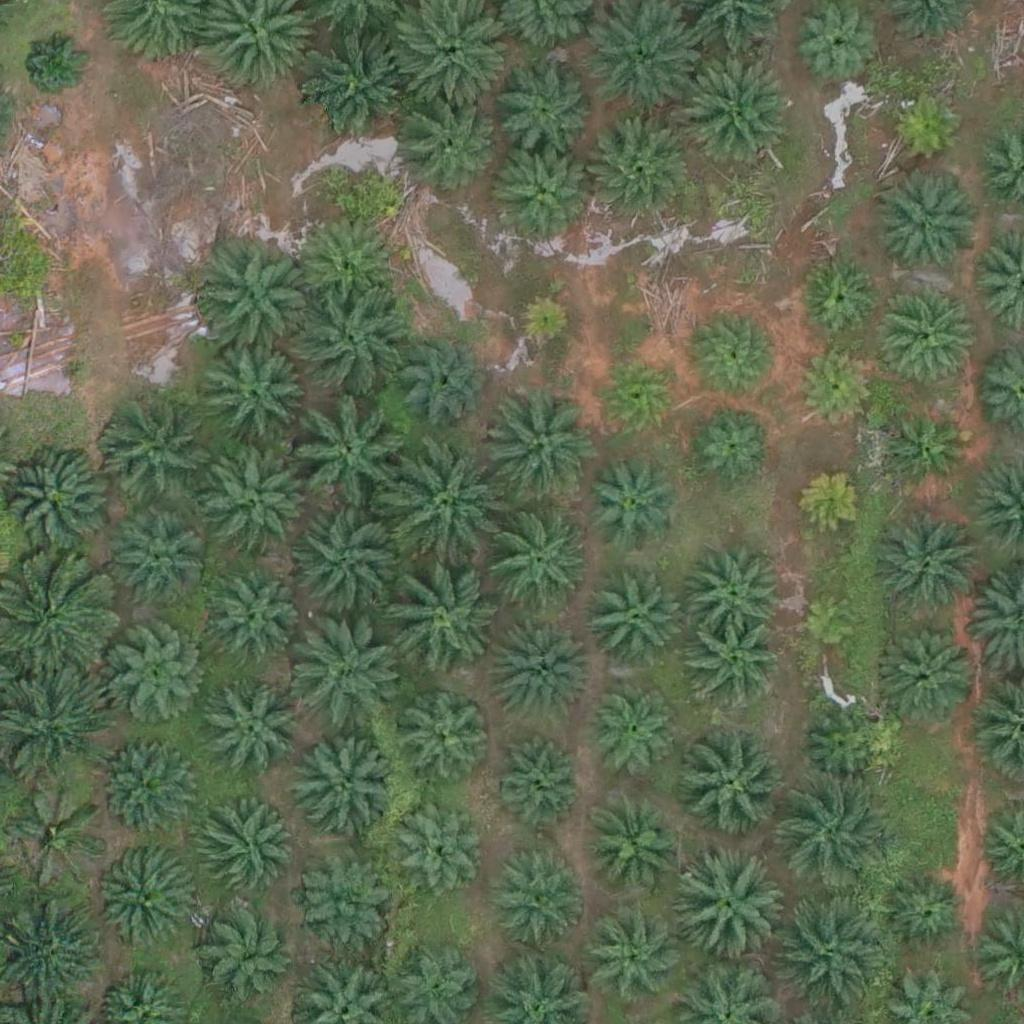Kelapa_Sawit: (871, 504, 984, 618), (778, 897, 891, 1011), (675, 725, 788, 839), (668, 853, 781, 966), (290, 505, 403, 618), (304, 28, 417, 141), (387, 452, 500, 565), (293, 401, 406, 514), (198, 244, 311, 357), (289, 622, 401, 736), (679, 56, 791, 170), (581, 113, 693, 227), (781, 776, 893, 889), (383, 561, 495, 674), (589, 2, 701, 115), (484, 388, 596, 501), (299, 284, 411, 397), (201, 434, 313, 547), (95, 397, 207, 510), (884, 621, 984, 722), (684, 541, 784, 642), (578, 454, 678, 555), (585, 570, 685, 671), (585, 794, 685, 895), (587, 911, 687, 1012), (491, 510, 591, 611), (488, 843, 588, 944), (396, 683, 496, 784), (296, 738, 396, 839), (201, 680, 301, 781), (193, 800, 293, 901), (198, 900, 298, 1001), (99, 735, 199, 836), (96, 851, 196, 952), (874, 177, 974, 278), (873, 285, 973, 386), (497, 58, 597, 159), (392, 97, 492, 198), (298, 214, 398, 315), (206, 348, 306, 449), (487, 625, 587, 725), (292, 850, 392, 950), (102, 630, 202, 730), (8, 786, 108, 886), (497, 144, 597, 244), (588, 692, 676, 781), (801, 706, 889, 794), (693, 621, 781, 709), (493, 736, 581, 824), (884, 81, 972, 169), (692, 309, 780, 397), (692, 401, 780, 489), (790, 341, 878, 429), (798, 252, 886, 340), (405, 334, 493, 422), (882, 874, 969, 962), (394, 804, 481, 892), (213, 575, 300, 663), (115, 520, 202, 608), (593, 351, 680, 439), (883, 401, 970, 489), (795, 463, 870, 539), (19, 24, 94, 99), (510, 292, 573, 355), (800, 592, 862, 655)
